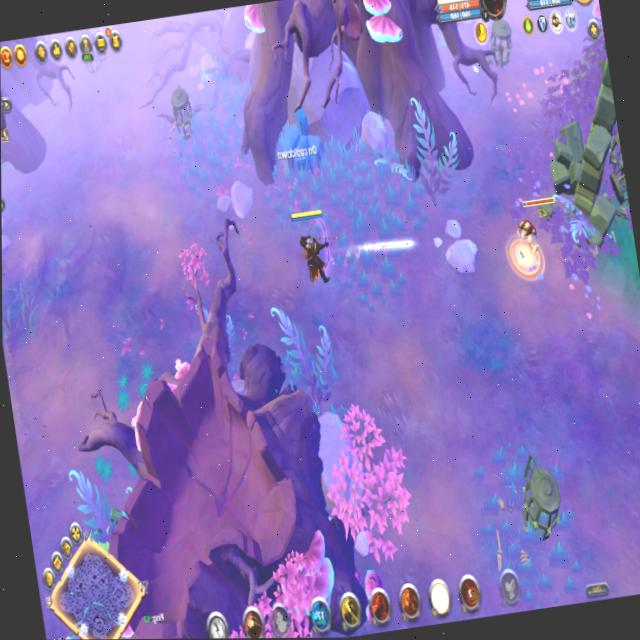ore: (500, 185, 567, 287)
red: (286, 200, 342, 295)
